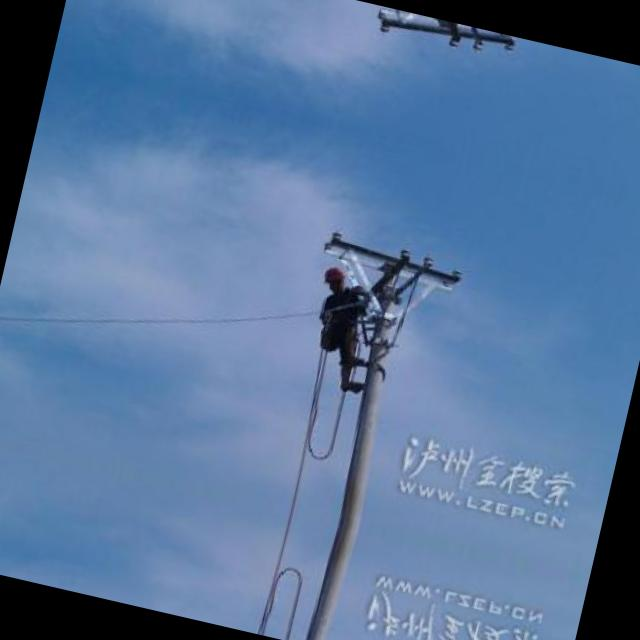helmet: (318, 258, 349, 292)
